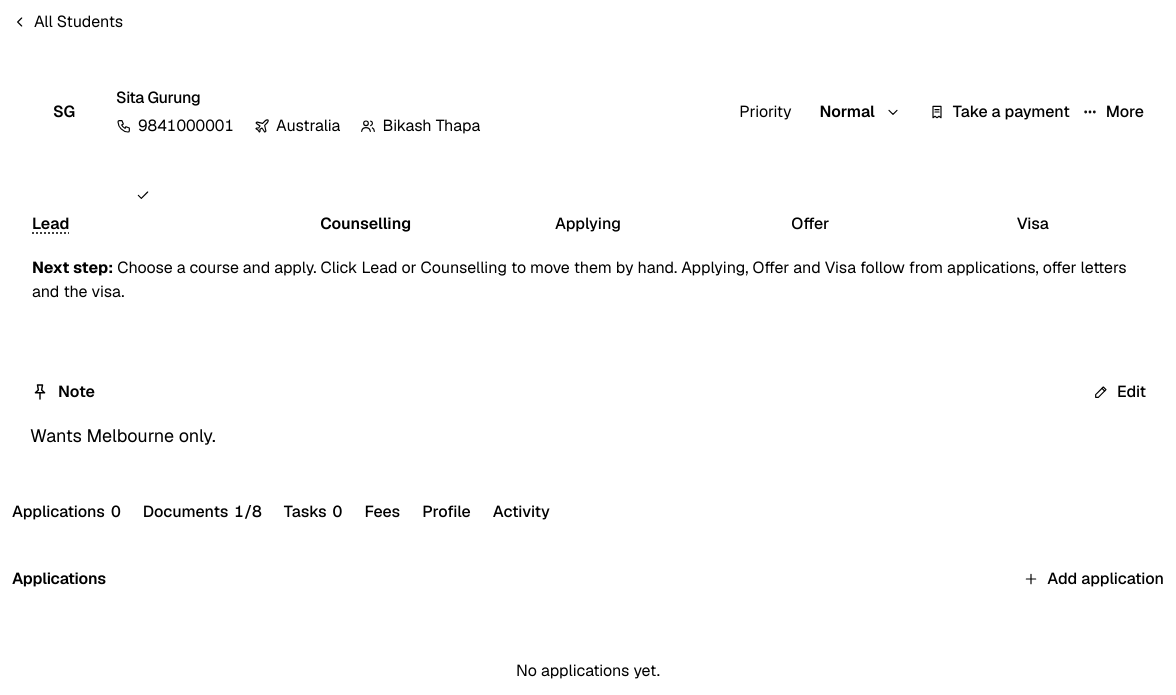
the Fees tab, for an Admin › says when everything is paid
What coordinates should you click on to do the following:
click the tab "Fees"
I would click on:
 (382, 512)
Its box is top-left (364, 490), bottom-right (400, 534).
(page scrolled)
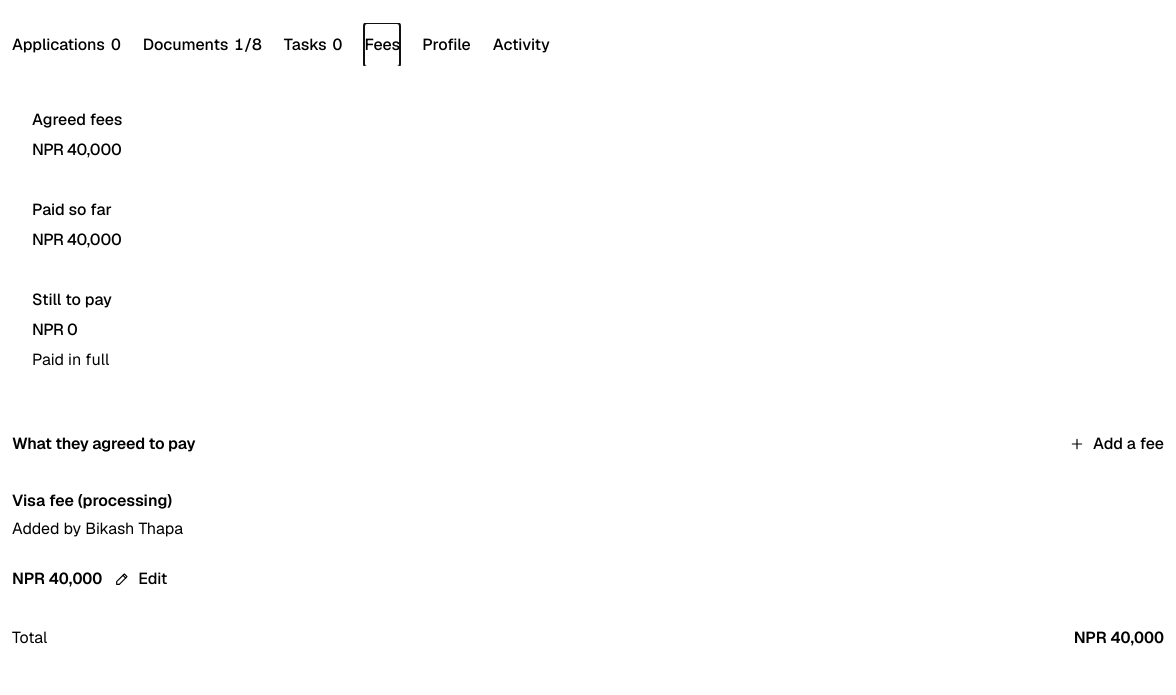
Expected: the text "Paid in full" is shown, top-left (32, 349), bottom-right (109, 370)
